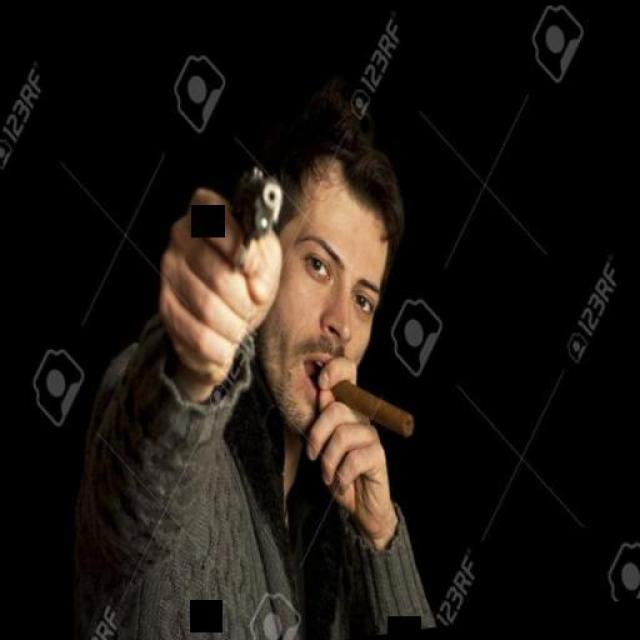gun: (208, 156, 292, 278)
